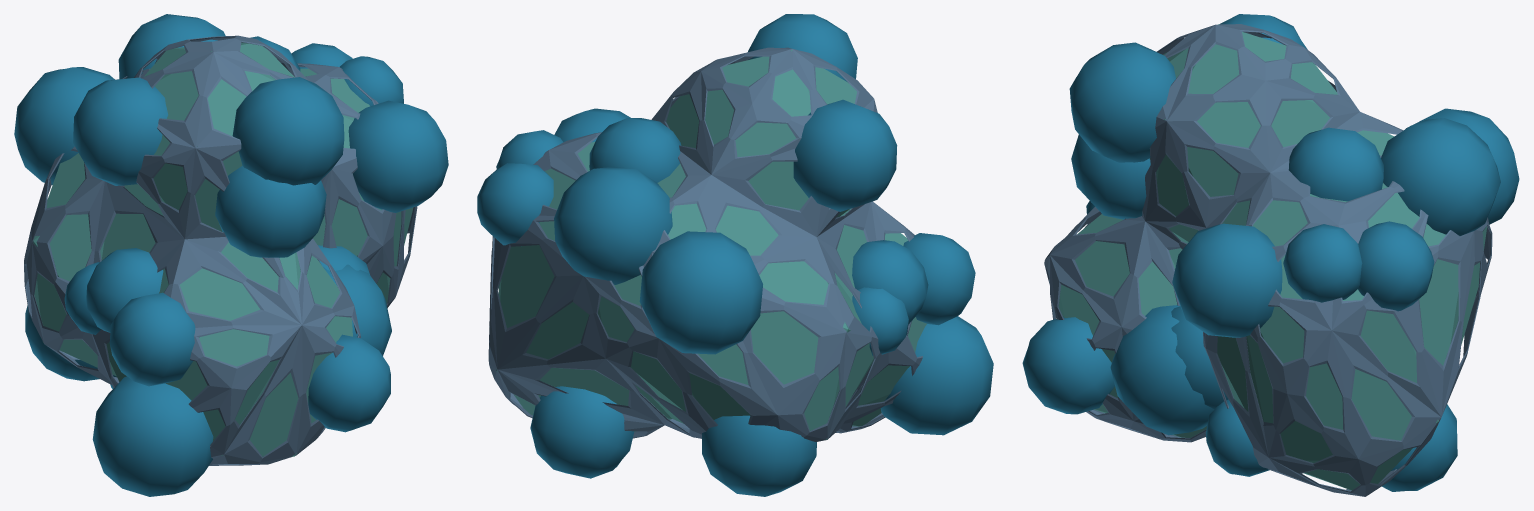
Rendered from glueBush6.fbx.
3 renders of one model, left to right at view 1: azimuth 30°, elevation 25°; view 2: azimuth 150°, elevation 25°; view 3: azimuth 270°, elevation 25°, orthographic. The views are drawn at different scales.
Parts seen in each view (by area): view 1: Mball.012; view 2: Mball.012; view 3: Mball.012.
Part boxes in pixels (x1,y1,x2,y2): Mball.012: [14, 14, 448, 496]; Mball.012: [477, 14, 993, 496]; Mball.012: [1022, 14, 1519, 496].
Size of the model in its own units: 258 by 242 by 269.
